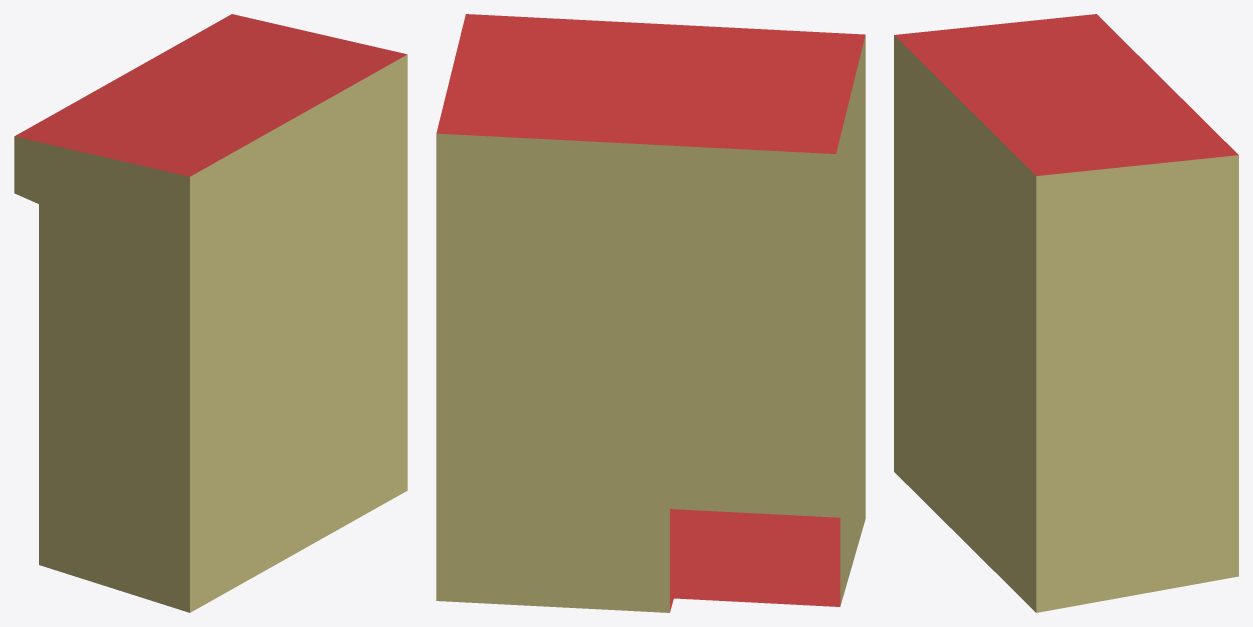
3 renders of one model, left to right at view 1: azimuth 30°, elevation 25°; view 2: azimuth 150°, elevation 25°; view 3: azimuth 270°, elevation 25°, orthographic. The views are drawn at different scales.
Bounding box in the file's own units: 5.44 × 4.47 × 6.24.
